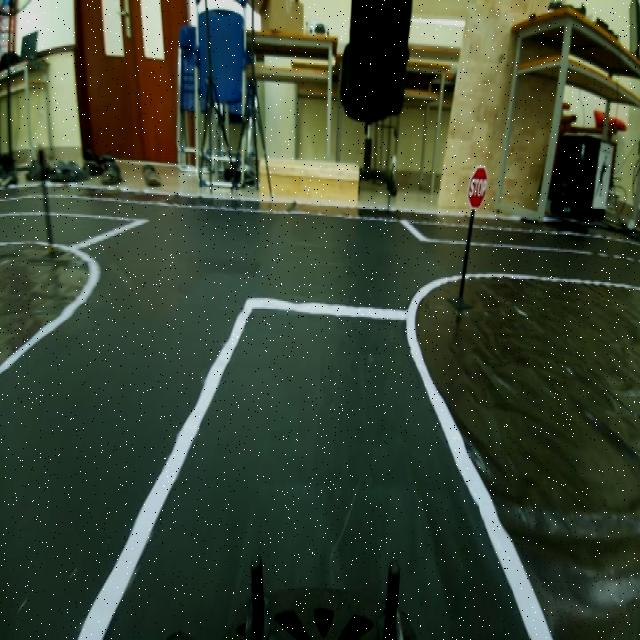stop: (464, 162, 491, 215)
